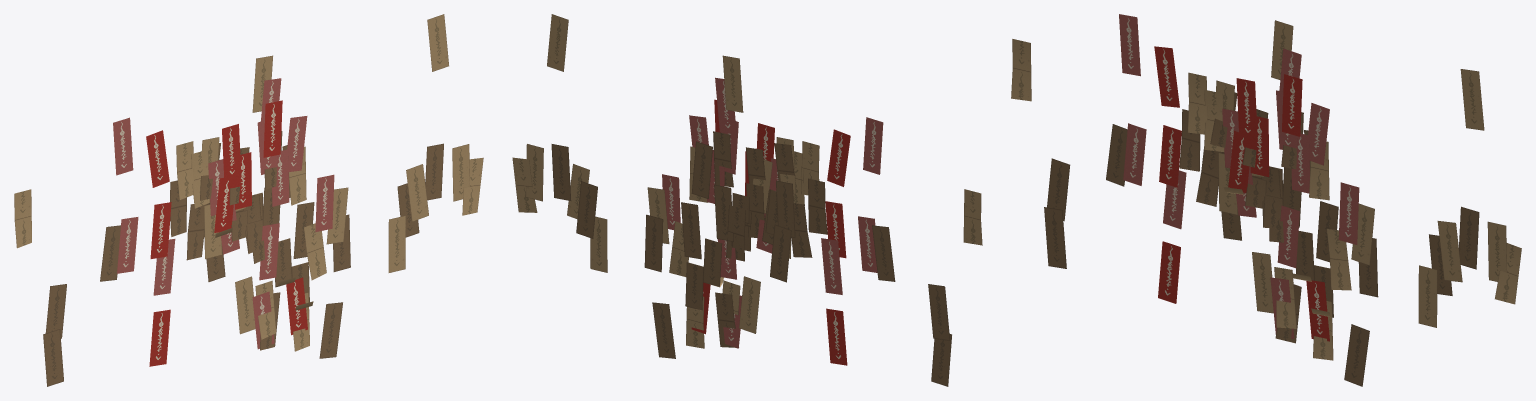
The model's file is TuongBuaMau.glb.
3 renders of one model, left to right at view 1: azimuth 30°, elevation 25°; view 2: azimuth 150°, elevation 25°; view 3: azimuth 330°, elevation 25°, orthographic. The views are drawn at different scales.
Visible parts, largest first — view 1: TuongBua; view 2: TuongBua; view 3: TuongBua.
Part boxes in pixels (left/top/right/bottom): TuongBua: left=14, top=14, right=483, bottom=386; TuongBua: left=512, top=14, right=982, bottom=386; TuongBua: left=1011, top=14, right=1521, bottom=386.
Bounding box in the file's own units: 2.2 × 1.42 × 0.0304.
1 material, 1 textured.
